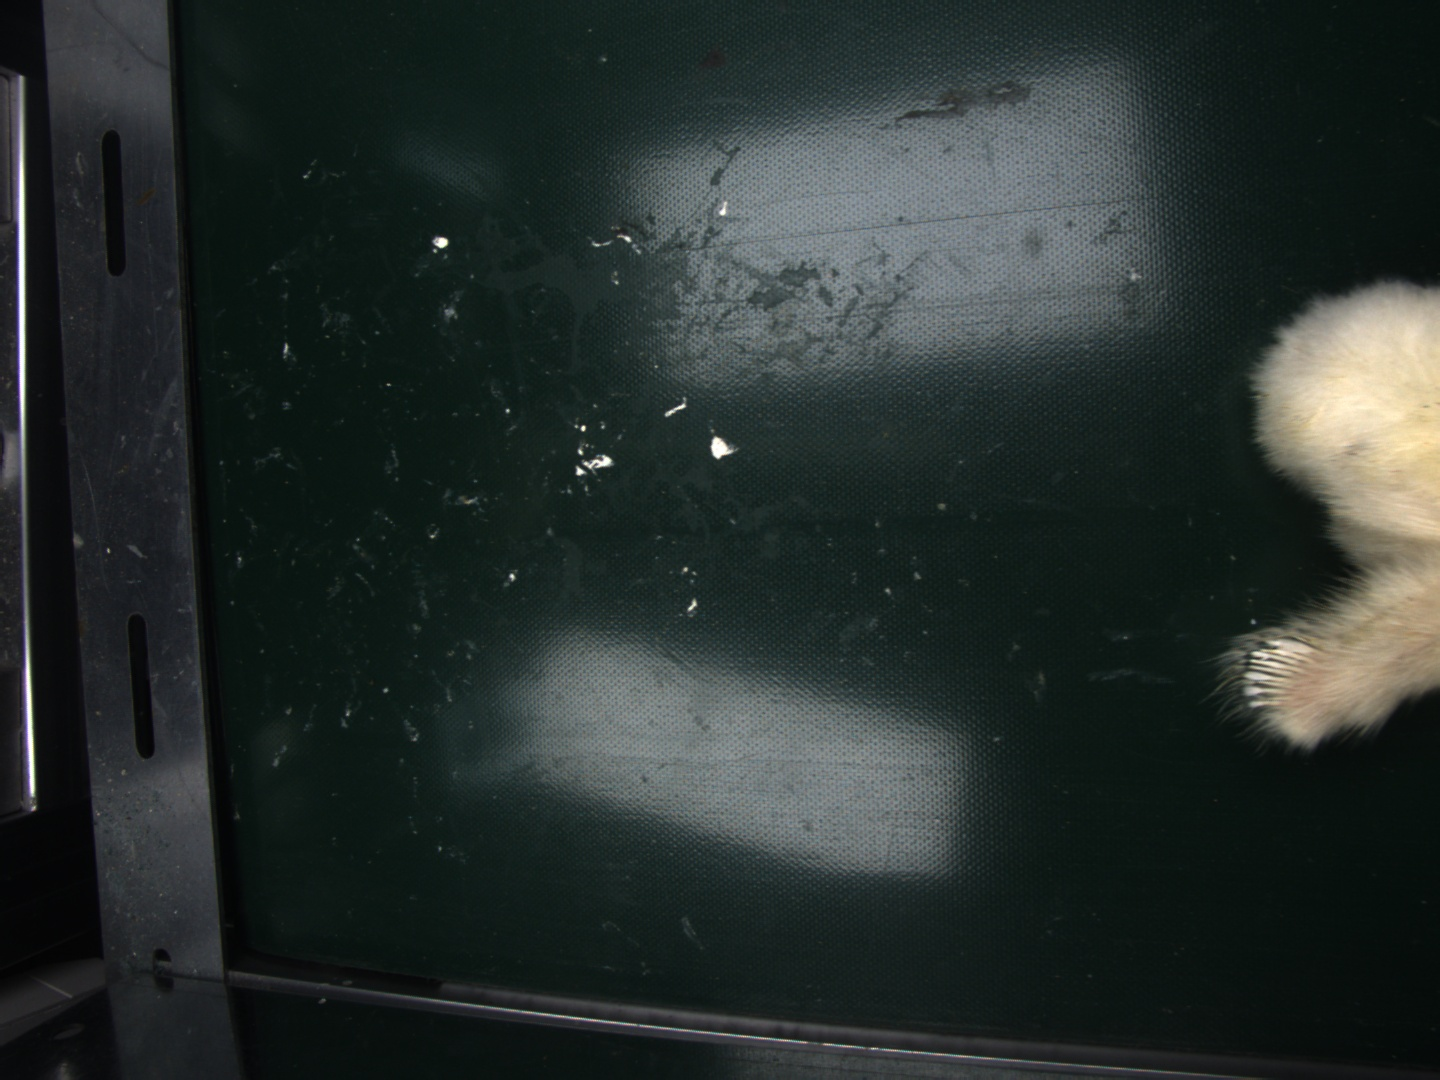male: (1238, 638, 1313, 715)
